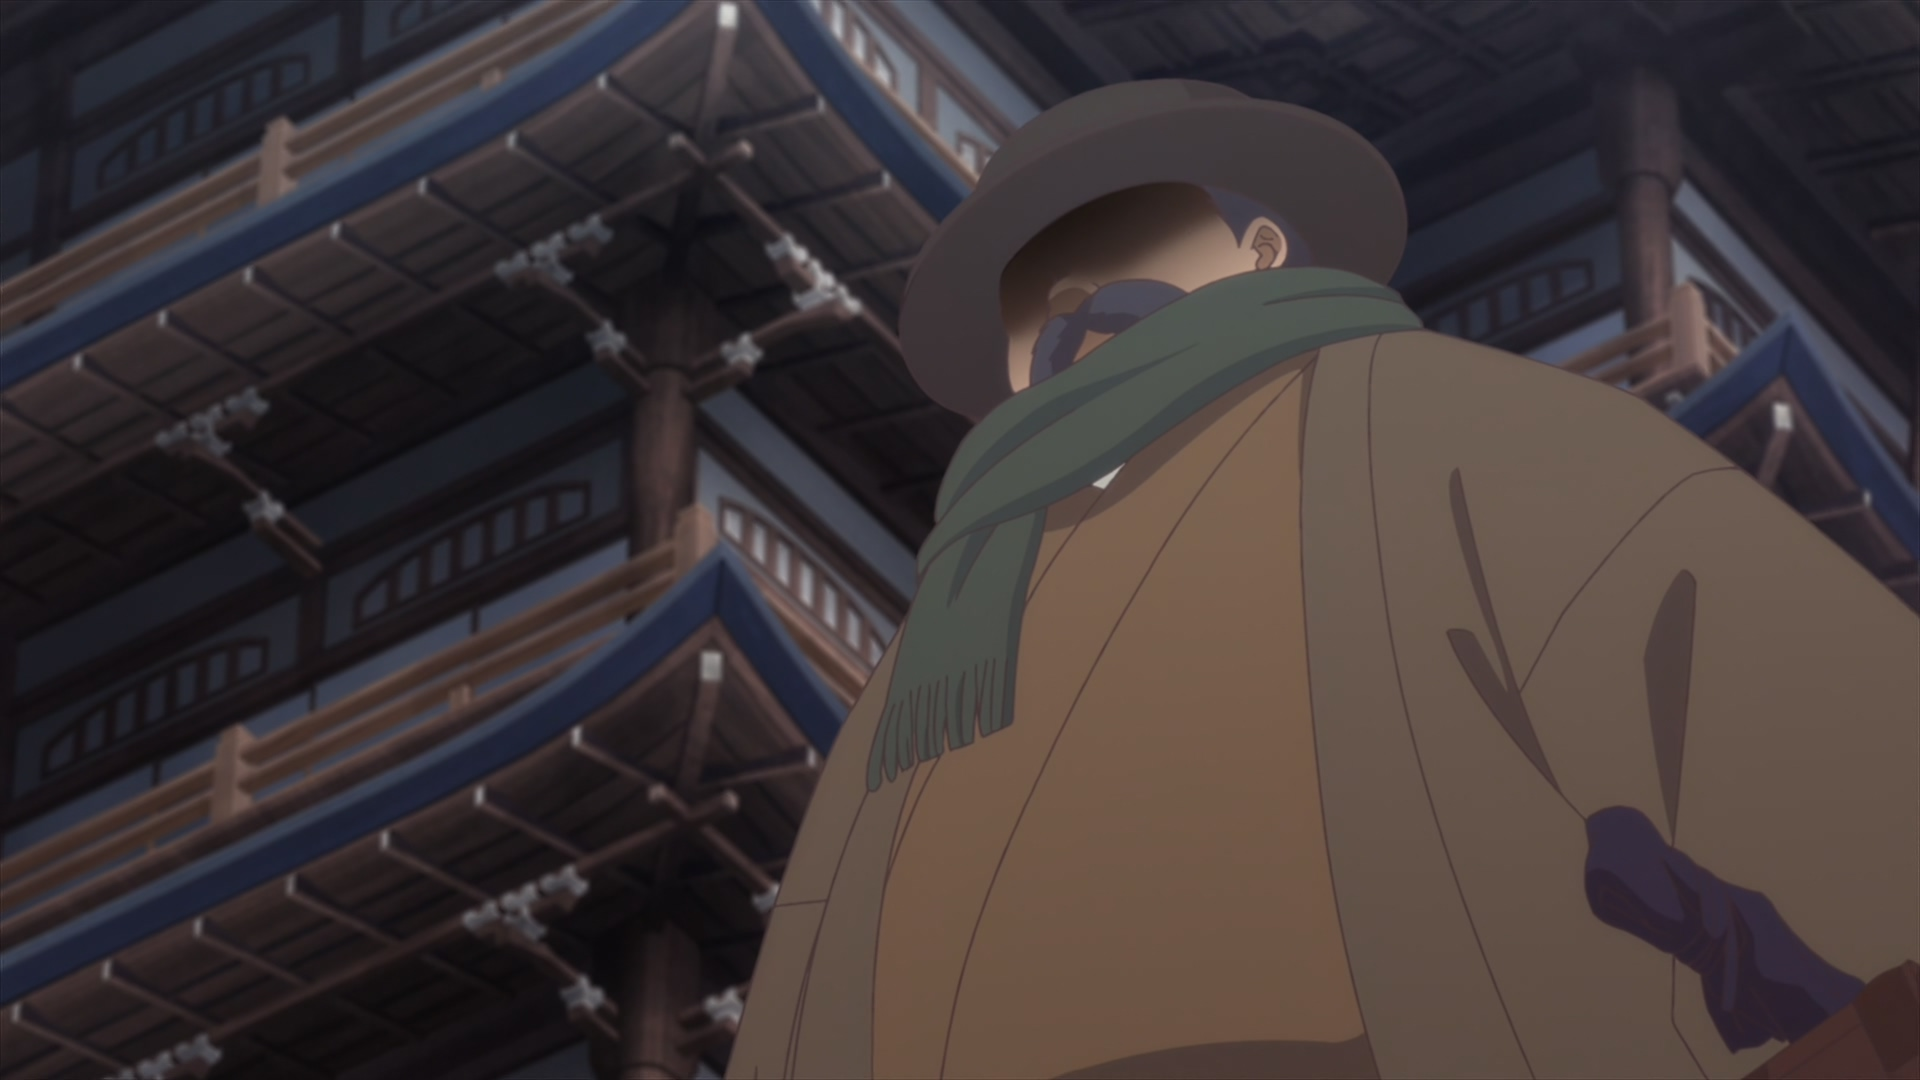其他: (723, 78, 1920, 1080)
